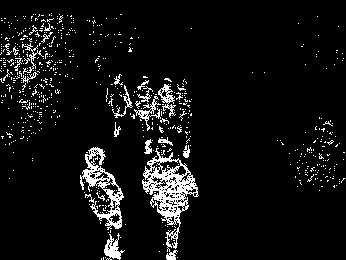person: (140, 138, 199, 260), (79, 146, 124, 260), (130, 74, 158, 153), (172, 78, 197, 158), (106, 72, 133, 139), (151, 77, 176, 140)
